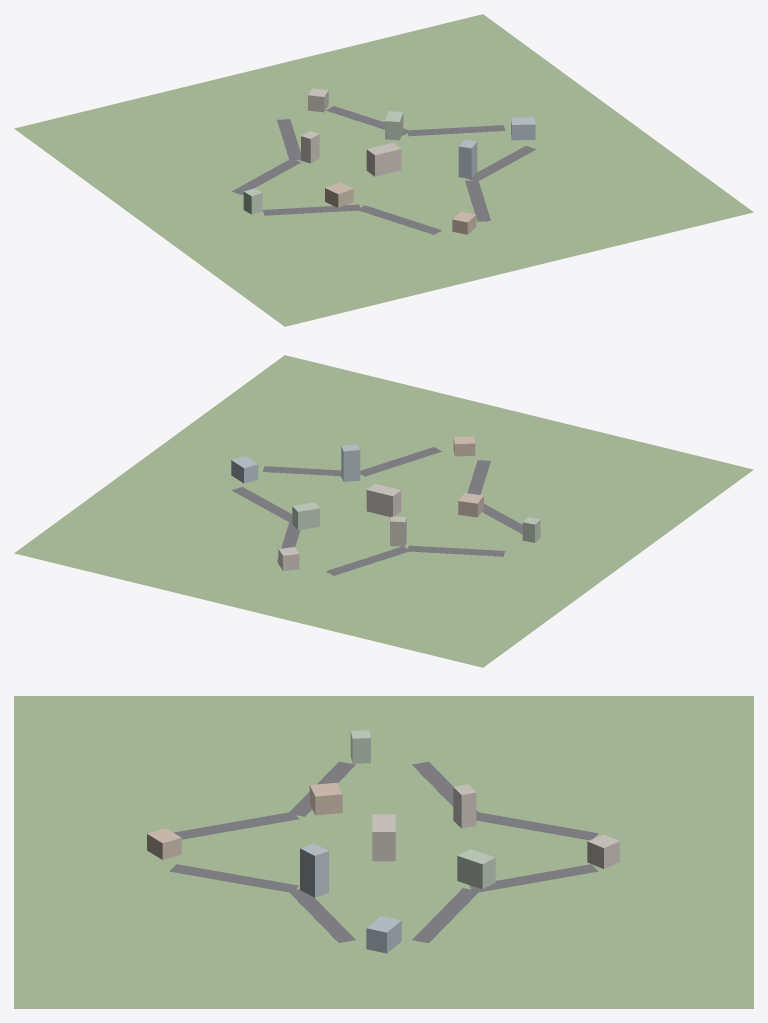
File: sample.glb
3 renders of one model, top to bottom at view 1: azimuth 30°, elevation 25°; view 2: azimuth 150°, elevation 25°; view 3: azimuth 270°, elevation 25°, orthographic. The views are drawn at different scales.
Parts seen in each view (by area): view 1: ground, col_bld0, col_bld1, road7, road3, road2, road4, col_bld2, road0, road1, road5, col_bld5 (+1 smaller); view 2: ground, col_bld0, col_bld1, col_bld3, road4, col_bld5, road5, road1, road7, col_bld2; view 3: ground, col_bld1, col_bld3, col_bld0, road1, road5, col_bld5, road2, road7, road0, road6, col_bld2 (+6 smaller).
Part boxes in pixels (bbox=[...]): ground: bbox=[14, 14, 753, 326]; col_bld0: bbox=[366, 142, 401, 176]; col_bld1: bbox=[458, 139, 477, 178]; road7: bbox=[408, 125, 505, 136]; road3: bbox=[262, 204, 360, 215]; road2: bbox=[359, 205, 441, 234]; road4: bbox=[232, 159, 300, 194]; col_bld2: bbox=[325, 182, 353, 207]; road0: bbox=[466, 146, 536, 181]; road1: bbox=[465, 180, 490, 221]; road5: bbox=[277, 119, 300, 160]; col_bld5: bbox=[511, 117, 535, 140]; ground: bbox=[14, 355, 753, 667]; col_bld0: bbox=[366, 483, 401, 517]; col_bld1: bbox=[341, 444, 360, 481]; col_bld3: bbox=[292, 502, 319, 530]; road4: bbox=[407, 545, 505, 556]; col_bld5: bbox=[231, 456, 258, 483]; road5: bbox=[326, 546, 408, 575]; road1: bbox=[360, 447, 441, 476]; road7: bbox=[231, 487, 292, 522]; col_bld2: bbox=[458, 493, 483, 517]; ground: bbox=[14, 696, 753, 1008]; col_bld1: bbox=[300, 843, 328, 897]; col_bld3: bbox=[457, 849, 495, 889]; col_bld0: bbox=[372, 814, 395, 861]; road1: bbox=[169, 864, 298, 892]; road5: bbox=[476, 812, 598, 840]; col_bld5: bbox=[366, 916, 401, 953]; road2: bbox=[174, 812, 298, 839]; road7: bbox=[412, 888, 478, 942]; road0: bbox=[288, 889, 355, 942]; road6: bbox=[469, 864, 598, 892]; col_bld2: bbox=[309, 782, 342, 815].
Size of the model in its own units: 320 by 20 by 320.
